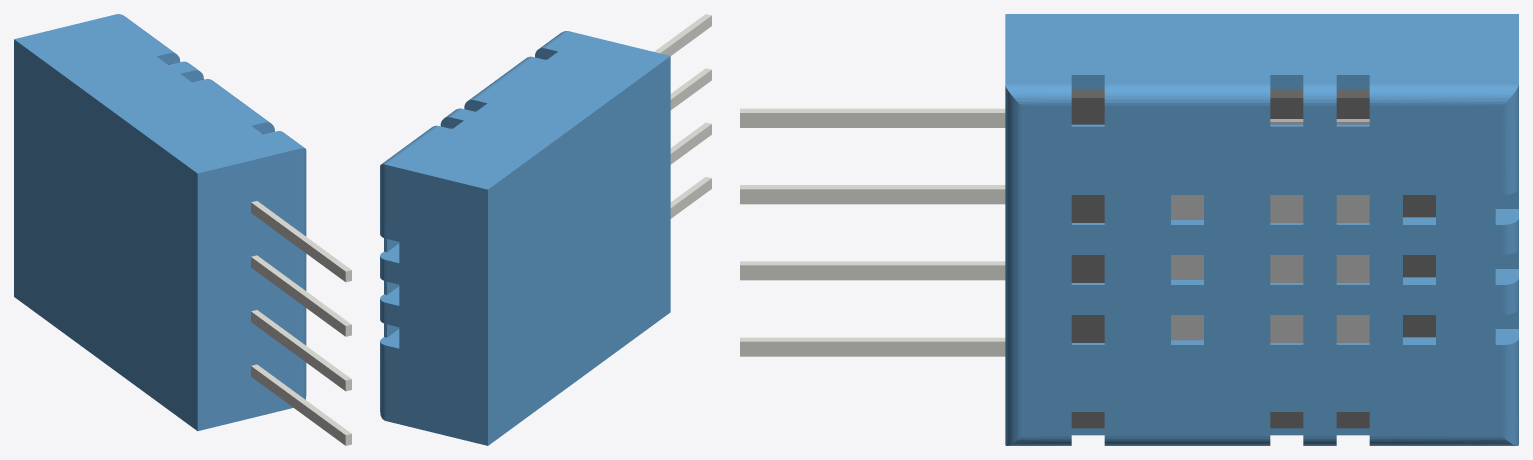
The model's file is Aosong_DHT11_5.5x12.0_P2.54mm.glb.
3 views of the same model, side by side, from view 1: azimuth 30°, elevation 25°; view 2: azimuth 150°, elevation 25°; view 3: azimuth 270°, elevation 25° (orthographic). The views are drawn at different scales.
Visible parts, largest first — view 1: Shape_IndexedFaceSet.008, Shape_IndexedFaceSet.005, Shape_IndexedFaceSet.006, Shape_IndexedFaceSet.007, Shape_IndexedFaceSet.004, Shape_IndexedFaceSet.017, Shape_IndexedFaceSet.013, Shape_IndexedFaceSet.021, Shape_IndexedFaceSet.020, Shape_IndexedFaceSet.003, Shape_IndexedFaceSet.012, Shape_IndexedFaceSet.016; view 2: Shape_IndexedFaceSet.008, Shape_IndexedFaceSet.024, Shape_IndexedFaceSet.006, Shape_IndexedFaceSet.004, Shape_IndexedFaceSet.021, Shape_IndexedFaceSet.017, Shape_IndexedFaceSet.013, Shape_IndexedFaceSet.074, Shape_IndexedFaceSet.069, Shape_IndexedFaceSet.003; view 3: Shape_IndexedFaceSet.043, Shape_IndexedFaceSet.006, Shape_IndexedFaceSet.227, Shape_IndexedFaceSet.007, Shape_IndexedFaceSet.068, Shape_IndexedFaceSet.010, Shape_IndexedFaceSet.014, Shape_IndexedFaceSet.018, Shape_IndexedFaceSet.001, Shape_IndexedFaceSet.033, Shape_IndexedFaceSet.026, Shape_IndexedFaceSet.074 (+12 smaller).
Boxes of the visible parts, <box> form: Shape_IndexedFaceSet.008: <box>14,39,197,430</box>; Shape_IndexedFaceSet.005: <box>197,148,300,430</box>; Shape_IndexedFaceSet.006: <box>14,14,299,173</box>; Shape_IndexedFaceSet.007: <box>300,148,306,399</box>; Shape_IndexedFaceSet.004: <box>251,202,345,281</box>; Shape_IndexedFaceSet.017: <box>251,311,345,390</box>; Shape_IndexedFaceSet.013: <box>251,257,345,336</box>; Shape_IndexedFaceSet.021: <box>251,366,345,445</box>; Shape_IndexedFaceSet.020: <box>251,364,351,434</box>; Shape_IndexedFaceSet.003: <box>251,201,351,271</box>; Shape_IndexedFaceSet.012: <box>251,255,351,325</box>; Shape_IndexedFaceSet.016: <box>251,310,351,380</box>; Shape_IndexedFaceSet.008: <box>488,56,670,445</box>; Shape_IndexedFaceSet.024: <box>386,165,487,445</box>; Shape_IndexedFaceSet.006: <box>386,31,669,189</box>; Shape_IndexedFaceSet.004: <box>660,15,711,55</box>; Shape_IndexedFaceSet.021: <box>670,178,711,218</box>; Shape_IndexedFaceSet.017: <box>670,124,711,164</box>; Shape_IndexedFaceSet.013: <box>670,70,711,109</box>; Shape_IndexedFaceSet.074: <box>380,342,385,420</box>; Shape_IndexedFaceSet.069: <box>380,164,385,238</box>; Shape_IndexedFaceSet.003: <box>654,14,711,53</box>; Shape_IndexedFaceSet.043: <box>1021,106,1502,436</box>; Shape_IndexedFaceSet.006: <box>1005,14,1518,83</box>; Shape_IndexedFaceSet.227: <box>1171,122,1369,342</box>; Shape_IndexedFaceSet.007: <box>1005,86,1021,445</box>; Shape_IndexedFaceSet.068: <box>1071,98,1104,428</box>; Shape_IndexedFaceSet.010: <box>740,189,1005,204</box>; Shape_IndexedFaceSet.014: <box>740,265,1005,280</box>; Shape_IndexedFaceSet.018: <box>740,341,1005,356</box>; Shape_IndexedFaceSet.001: <box>740,113,1005,127</box>; Shape_IndexedFaceSet.033: <box>1104,84,1270,105</box>; Shape_IndexedFaceSet.026: <box>1369,84,1518,105</box>; Shape_IndexedFaceSet.074: <box>1502,338,1518,445</box>.
Size of the model in its own units: 2.17 by 4.72 by 9.25.
